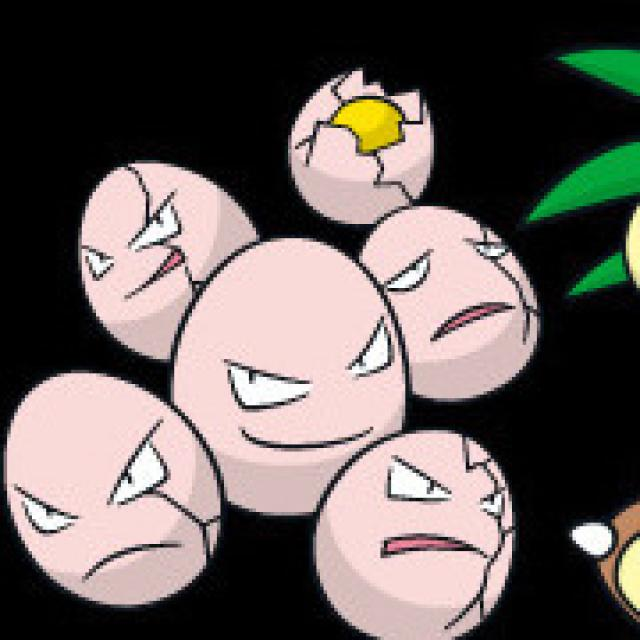Exeggcute: (20, 59, 544, 630)
